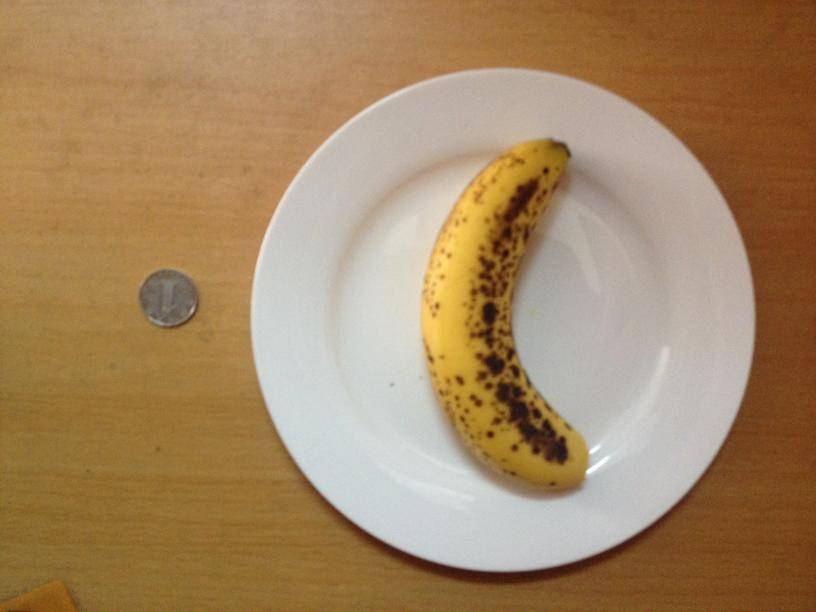banana: (412, 143, 588, 487)
coin: (138, 268, 199, 328)
